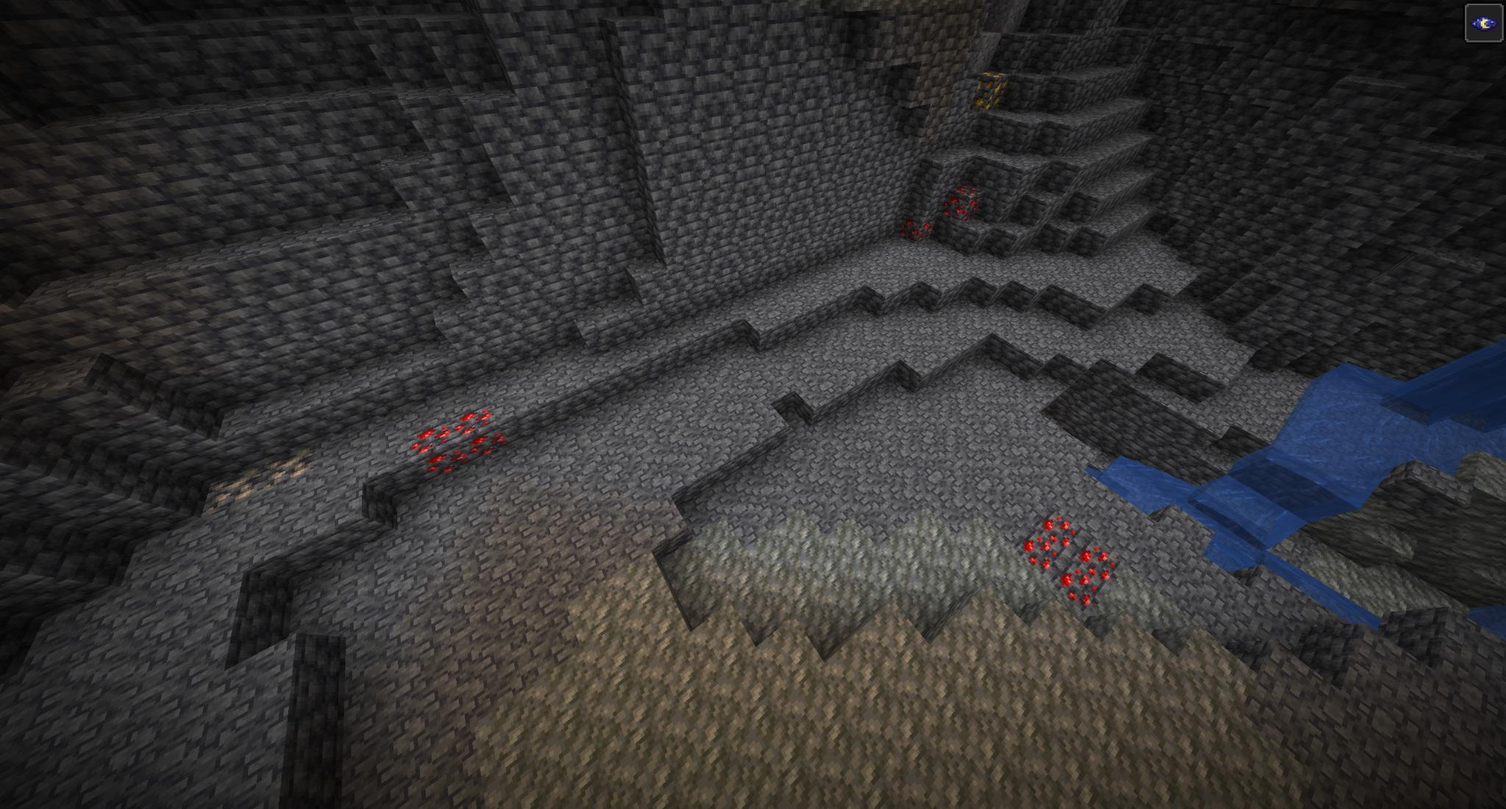gold ore: (970, 69, 1011, 111)
iron ore: (203, 452, 315, 501)
redstone ore: (411, 404, 508, 482), (1017, 515, 1107, 599), (944, 187, 980, 224), (899, 211, 936, 245)
